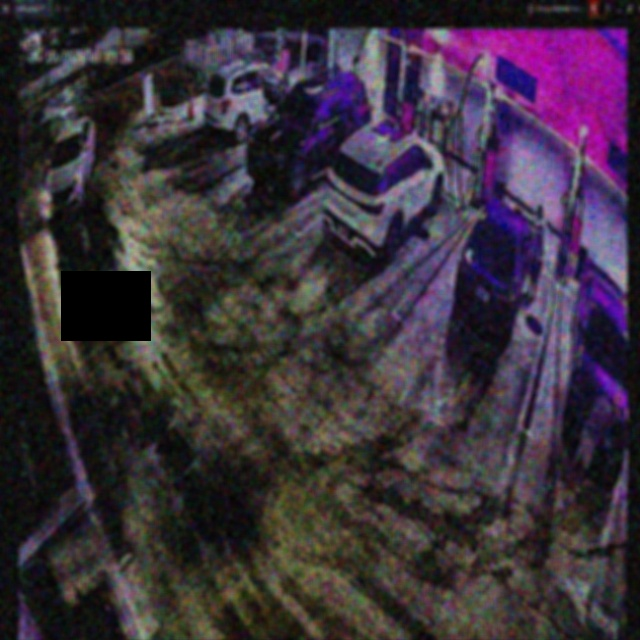Car: (243, 65, 368, 195), (331, 123, 441, 264), (450, 197, 527, 345)
